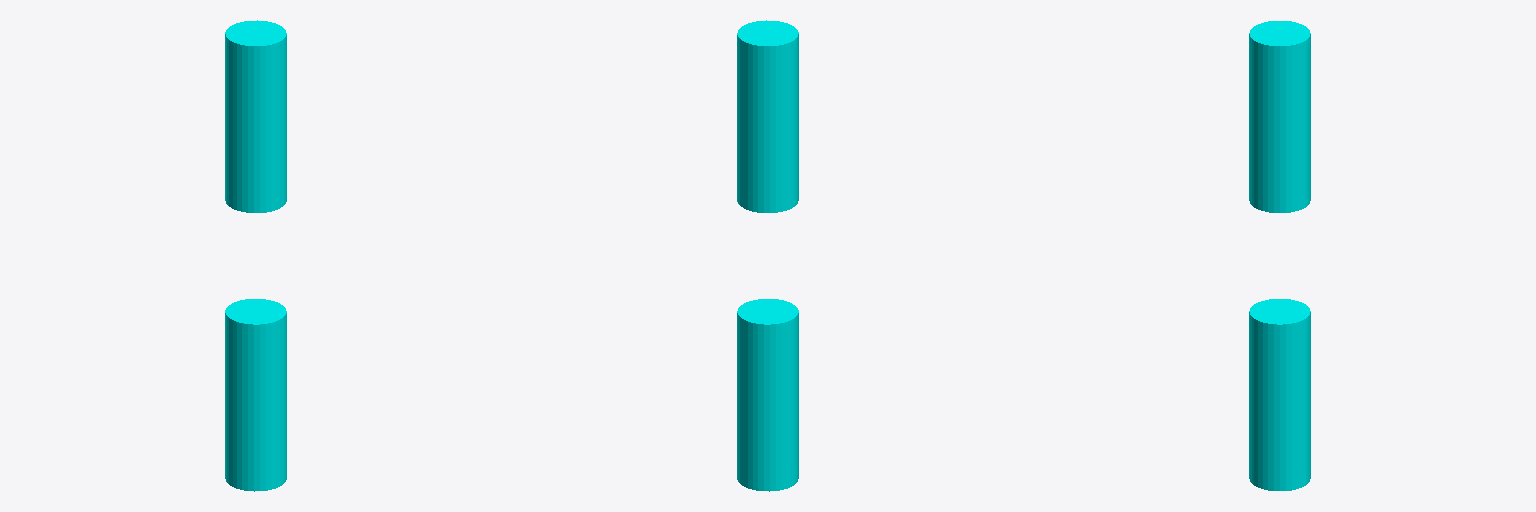
URDF robot description (model_with_nonzero_offset_joint):
<?xml version="1.0"?>
<robot name="model_with_nonzero_offset_joint">
<!--
Implements a 1-DOF robot with a joint that's located at (x = 0, y = 0, z = 1)
relative to its parent body's coordinate frame.
-->
  <link name="link1">
    <inertial>
      <mass value="1"/>
      <inertia ixx="0.0325" ixy="0.0" ixz="0.0" iyy="0.0325" iyz="0.0" izz="0.005"/>
      <origin xyz="0 0 0.3"/>
    </inertial>
    <visual>
      <origin xyz="0 0 0.3" rpy="0 0 0"/>
      <geometry>
        <cylinder length="0.6" radius="0.1"/>
      </geometry>
     <material name="Cyan">
       <color rgba="0 1.0 1.0 1.0"/>
     </material>
    </visual>
    <collision>
      <geometry>
        <cylinder length="0.6" radius="0.1"/>
      </geometry>
      <origin xyz="0 0 0.3"/>
    </collision>
  </link>

  <link name="link2">
    <inertial>
      <mass value="1"/>
      <inertia ixx="0.0325" ixy="0.0" ixz="0.0" iyy="0.0325" iyz="0.0" izz="0.005"/>
      <origin xyz="0 0 0.3"/>
    </inertial>
    <visual>
      <origin xyz="0 0 0.3" rpy="0 0 0"/>
      <geometry>
        <cylinder length="0.6" radius="0.1"/>
      </geometry>
     <material name="Cyan">
       <color rgba="0 1.0 1.0 1.0"/>
     </material>
    </visual>
    <collision>
      <geometry>
        <cylinder length="0.6" radius="0.1"/>
      </geometry>
      <origin xyz="0 0 0.3"/>
    </collision>
  </link>

  <joint name="joint1" type="revolute">
    <parent link="link1"/>
    <child link="link2"/>
    <origin xyz="0 0 1" rpy="0 0 0"/>
    <limit effort="30" velocity="1.0" lower="-1.5708" upper="1.5708" />
  </joint>

</robot>

--- Facts derived from the render (not from the file) ---
The picture shows the robot from 3 angles, left to right: view 1: azimuth 30°, elevation 25°; view 2: azimuth 150°, elevation 25°; view 3: azimuth 270°, elevation 25°; orthographic projection.
Robot: model_with_nonzero_offset_joint — 2 links, 1 joints (1 revolute); root link link1; default pose: all joints at 0.
Visible links, largest first — view 1: link1, link2; view 2: link1, link2; view 3: link1, link2.
Boxes of the visible links, x1,y1,x2,y2 form: link1: [225, 299, 286, 491]; link2: [225, 20, 286, 212]; link1: [737, 299, 798, 491]; link2: [737, 20, 798, 212]; link1: [1249, 299, 1310, 490]; link2: [1249, 21, 1310, 212].
Bounding box of the posed robot: 0.2 × 0.2 × 1.6 m (x, y, z).
Geometry: primitives only (box / cylinder / sphere), no mesh files.